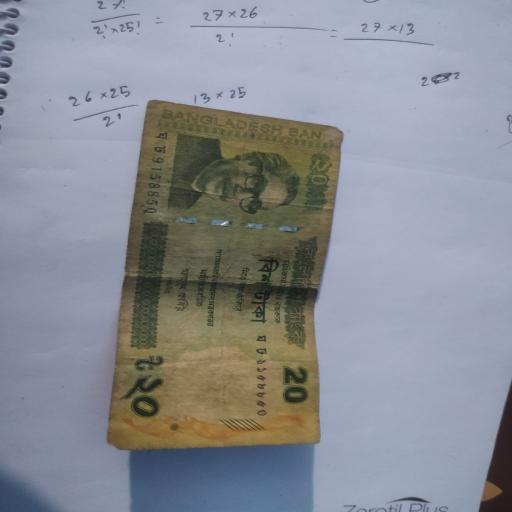20taka: (108, 100, 343, 450)
